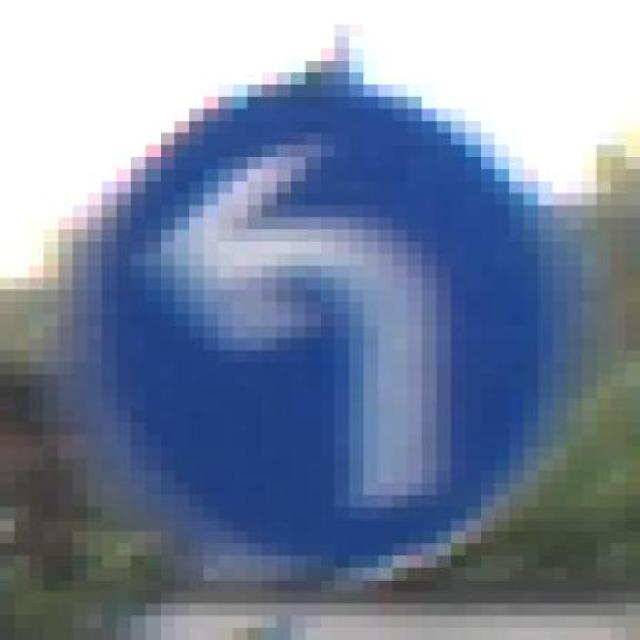Turn left ahead: (59, 60, 568, 592)
